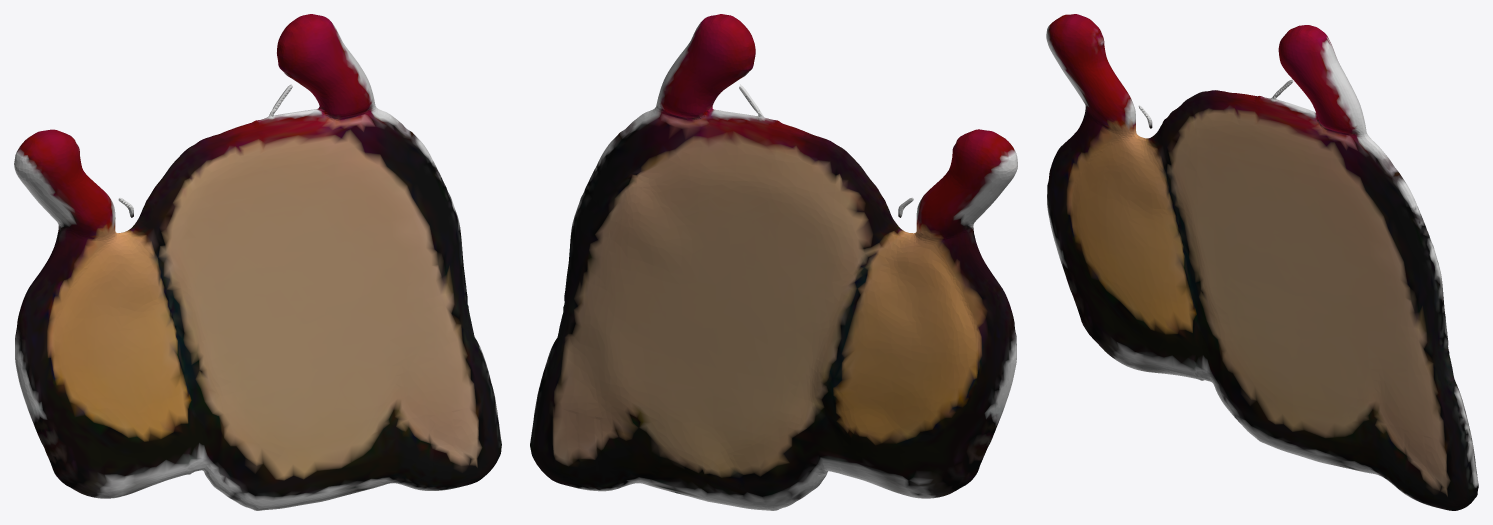
Rendered from roast_bird.glb.
The picture shows the model from 3 angles, left to right: view 1: azimuth 30°, elevation 25°; view 2: azimuth 150°, elevation 25°; view 3: azimuth 330°, elevation 25°; orthographic projection. The views are drawn at different scales.
Parts seen in each view (by area): view 1: geometry_0; view 2: geometry_0; view 3: geometry_0.
Boxes of the visible parts, bbox=[...] form: geometry_0: bbox=[14, 14, 501, 510]; geometry_0: bbox=[530, 14, 1017, 510]; geometry_0: bbox=[1046, 14, 1478, 510].
Size of the model in its own units: 0.4688 by 0.4668 by 0.0415.
